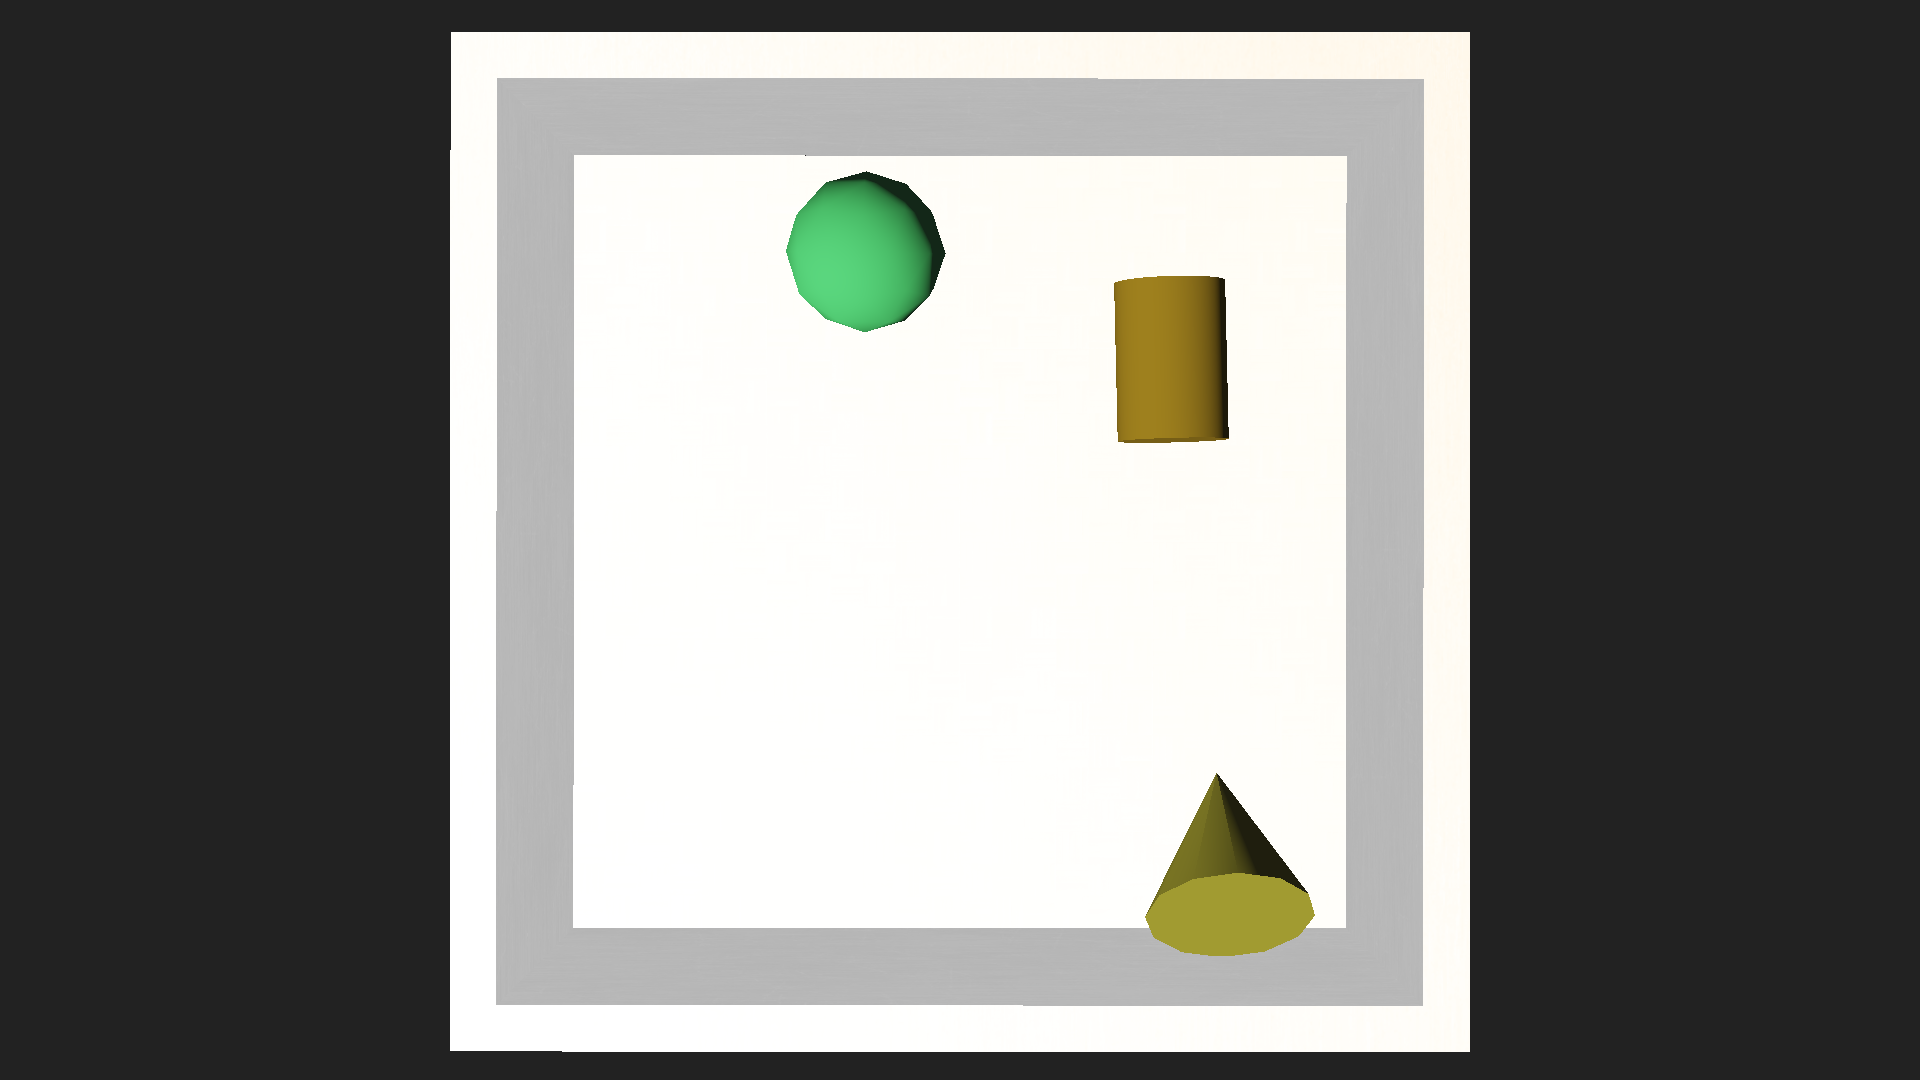cone: (1110, 274, 1234, 443)
cylinder: (1138, 721, 1316, 975)
sphere: (785, 173, 945, 331)
